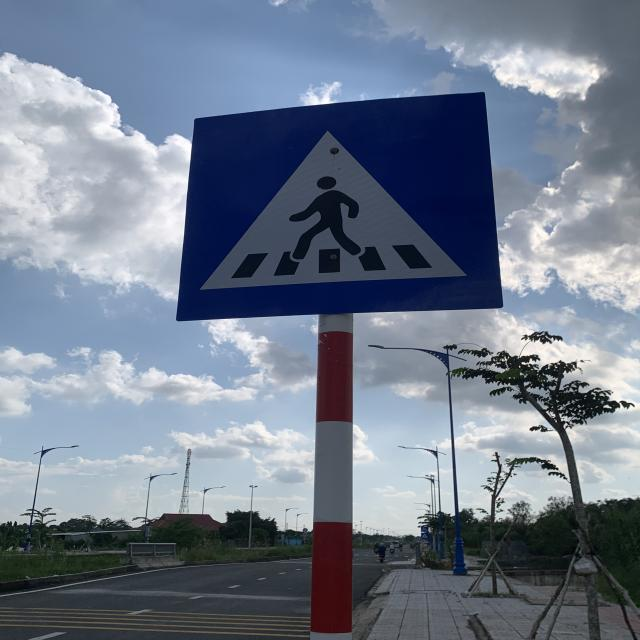Giao_Nhau_Duong_Uu_Tien: (179, 91, 505, 320)
